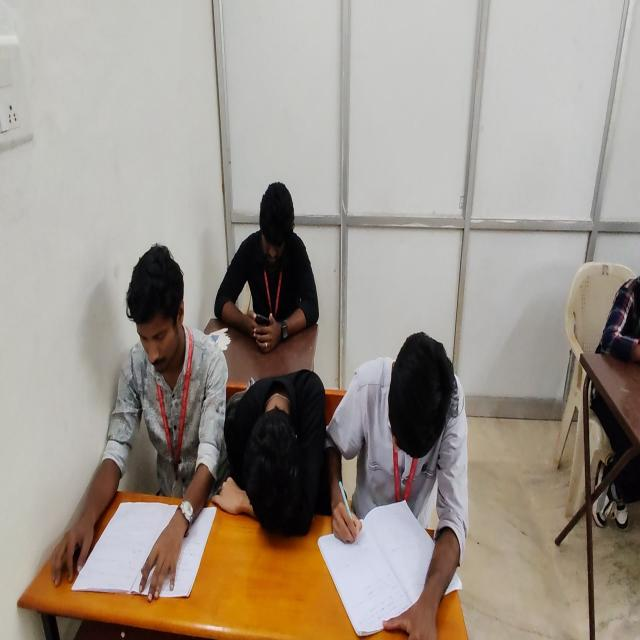reading: (51, 244, 232, 605), (321, 330, 466, 640)
sleeping: (220, 365, 328, 538)
using_mobile: (214, 181, 321, 351)
